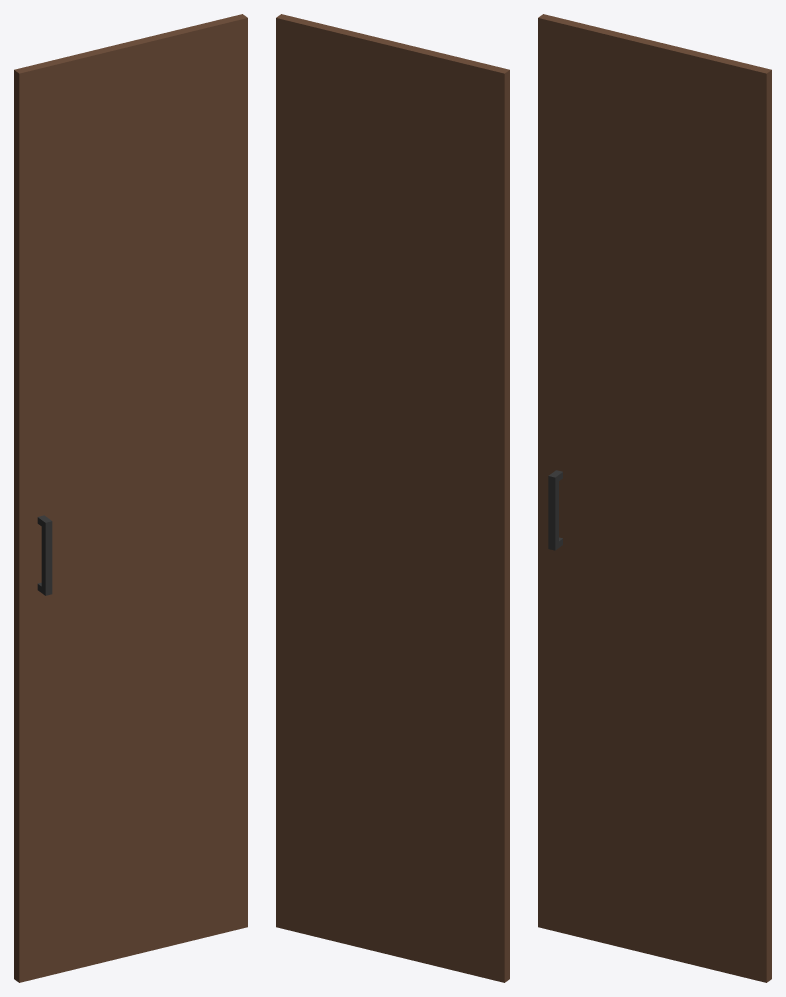
Rendered from Wardrobe1_C3_02.fbx.
3 renders of one model, left to right at view 1: azimuth 30°, elevation 25°; view 2: azimuth 150°, elevation 25°; view 3: azimuth 330°, elevation 25°, orthographic.
Visible parts, largest first — view 1: Wardrobe1_C3_02; view 2: Wardrobe1_C3_02; view 3: Wardrobe1_C3_02.
Boxes of the visible parts, x1,y1,x2,y2 form: Wardrobe1_C3_02: [14, 14, 247, 982]; Wardrobe1_C3_02: [276, 14, 509, 982]; Wardrobe1_C3_02: [538, 14, 771, 982].
Bounding box in the file's own units: 50 × 190 × 5.02.
